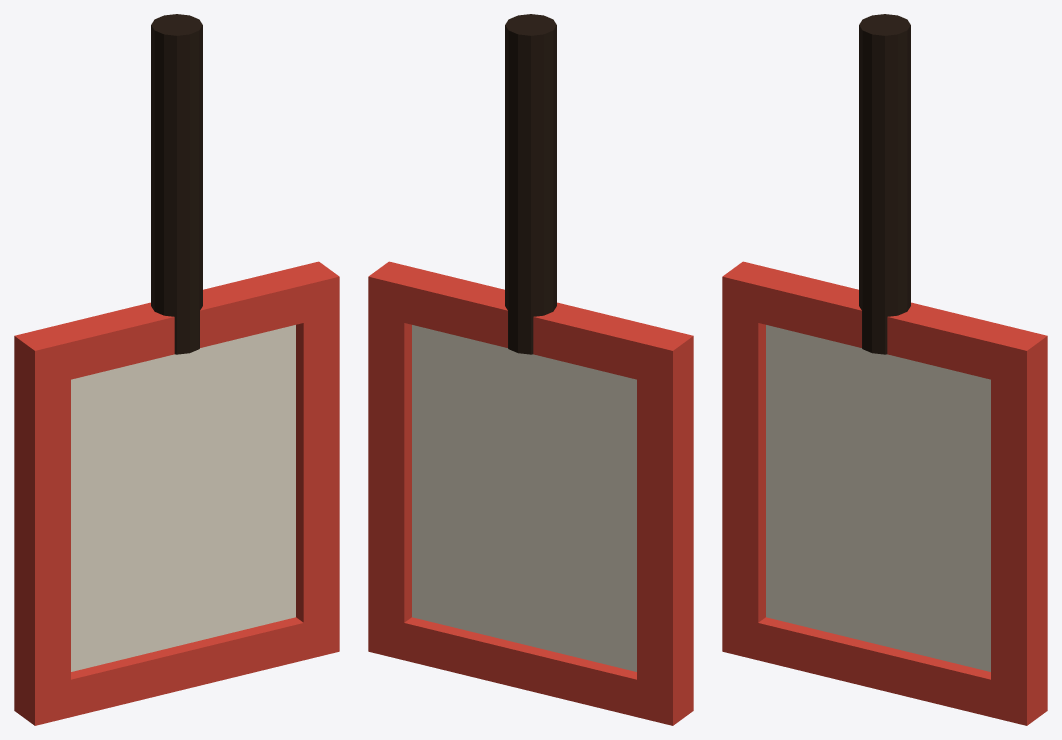
File: racket.glb
3 views of the same model, side by side, from view 1: azimuth 30°, elevation 25°; view 2: azimuth 150°, elevation 25°; view 3: azimuth 330°, elevation 25° (orthographic).
Visible parts, largest first — view 1: Head, Racket; view 2: Head, Racket; view 3: Head, Racket.
Part boxes in pixels (left/top/right/bottom): Head: left=14, top=261, right=339, bottom=725; Racket: left=151, top=14, right=202, bottom=354; Head: left=368, top=261, right=693, bottom=725; Racket: left=505, top=14, right=556, bottom=354; Head: left=722, top=261, right=1047, bottom=725; Racket: left=859, top=14, right=910, bottom=354.
Bounding box in the file's own units: 0.34 × 0.7 × 0.05.
